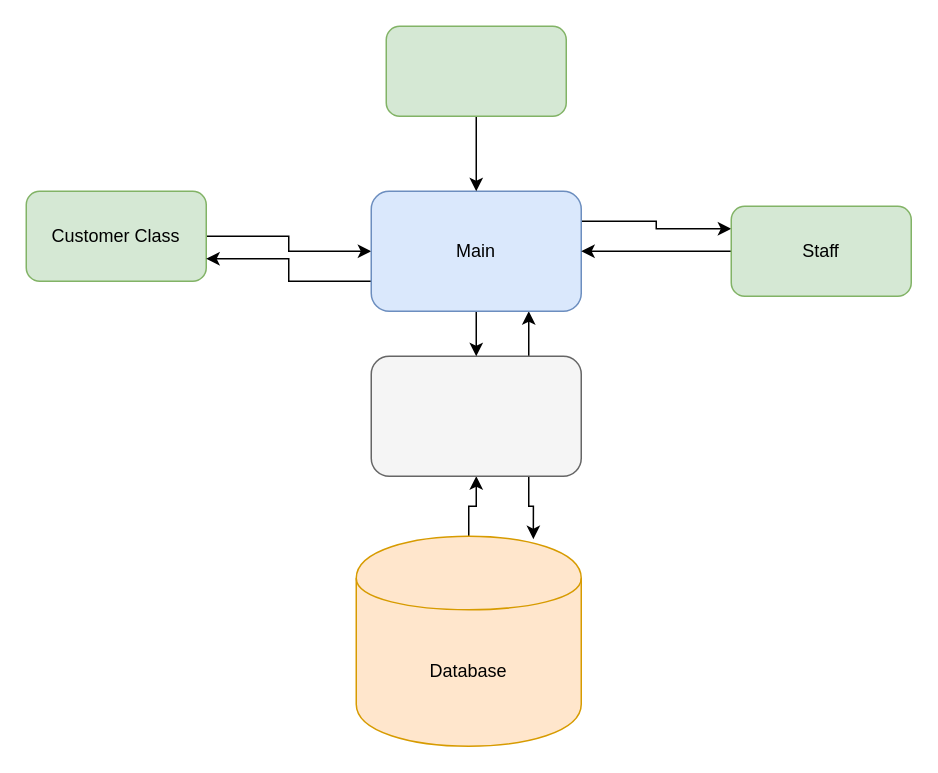
This 938x773 diagram has some shape labels left out. The box of each missing label's shape, as (x1, y1, x2, y2) in pixels:
Database Manager (CRUD): (370, 355, 581, 476)
Vehicle: (385, 25, 566, 116)
